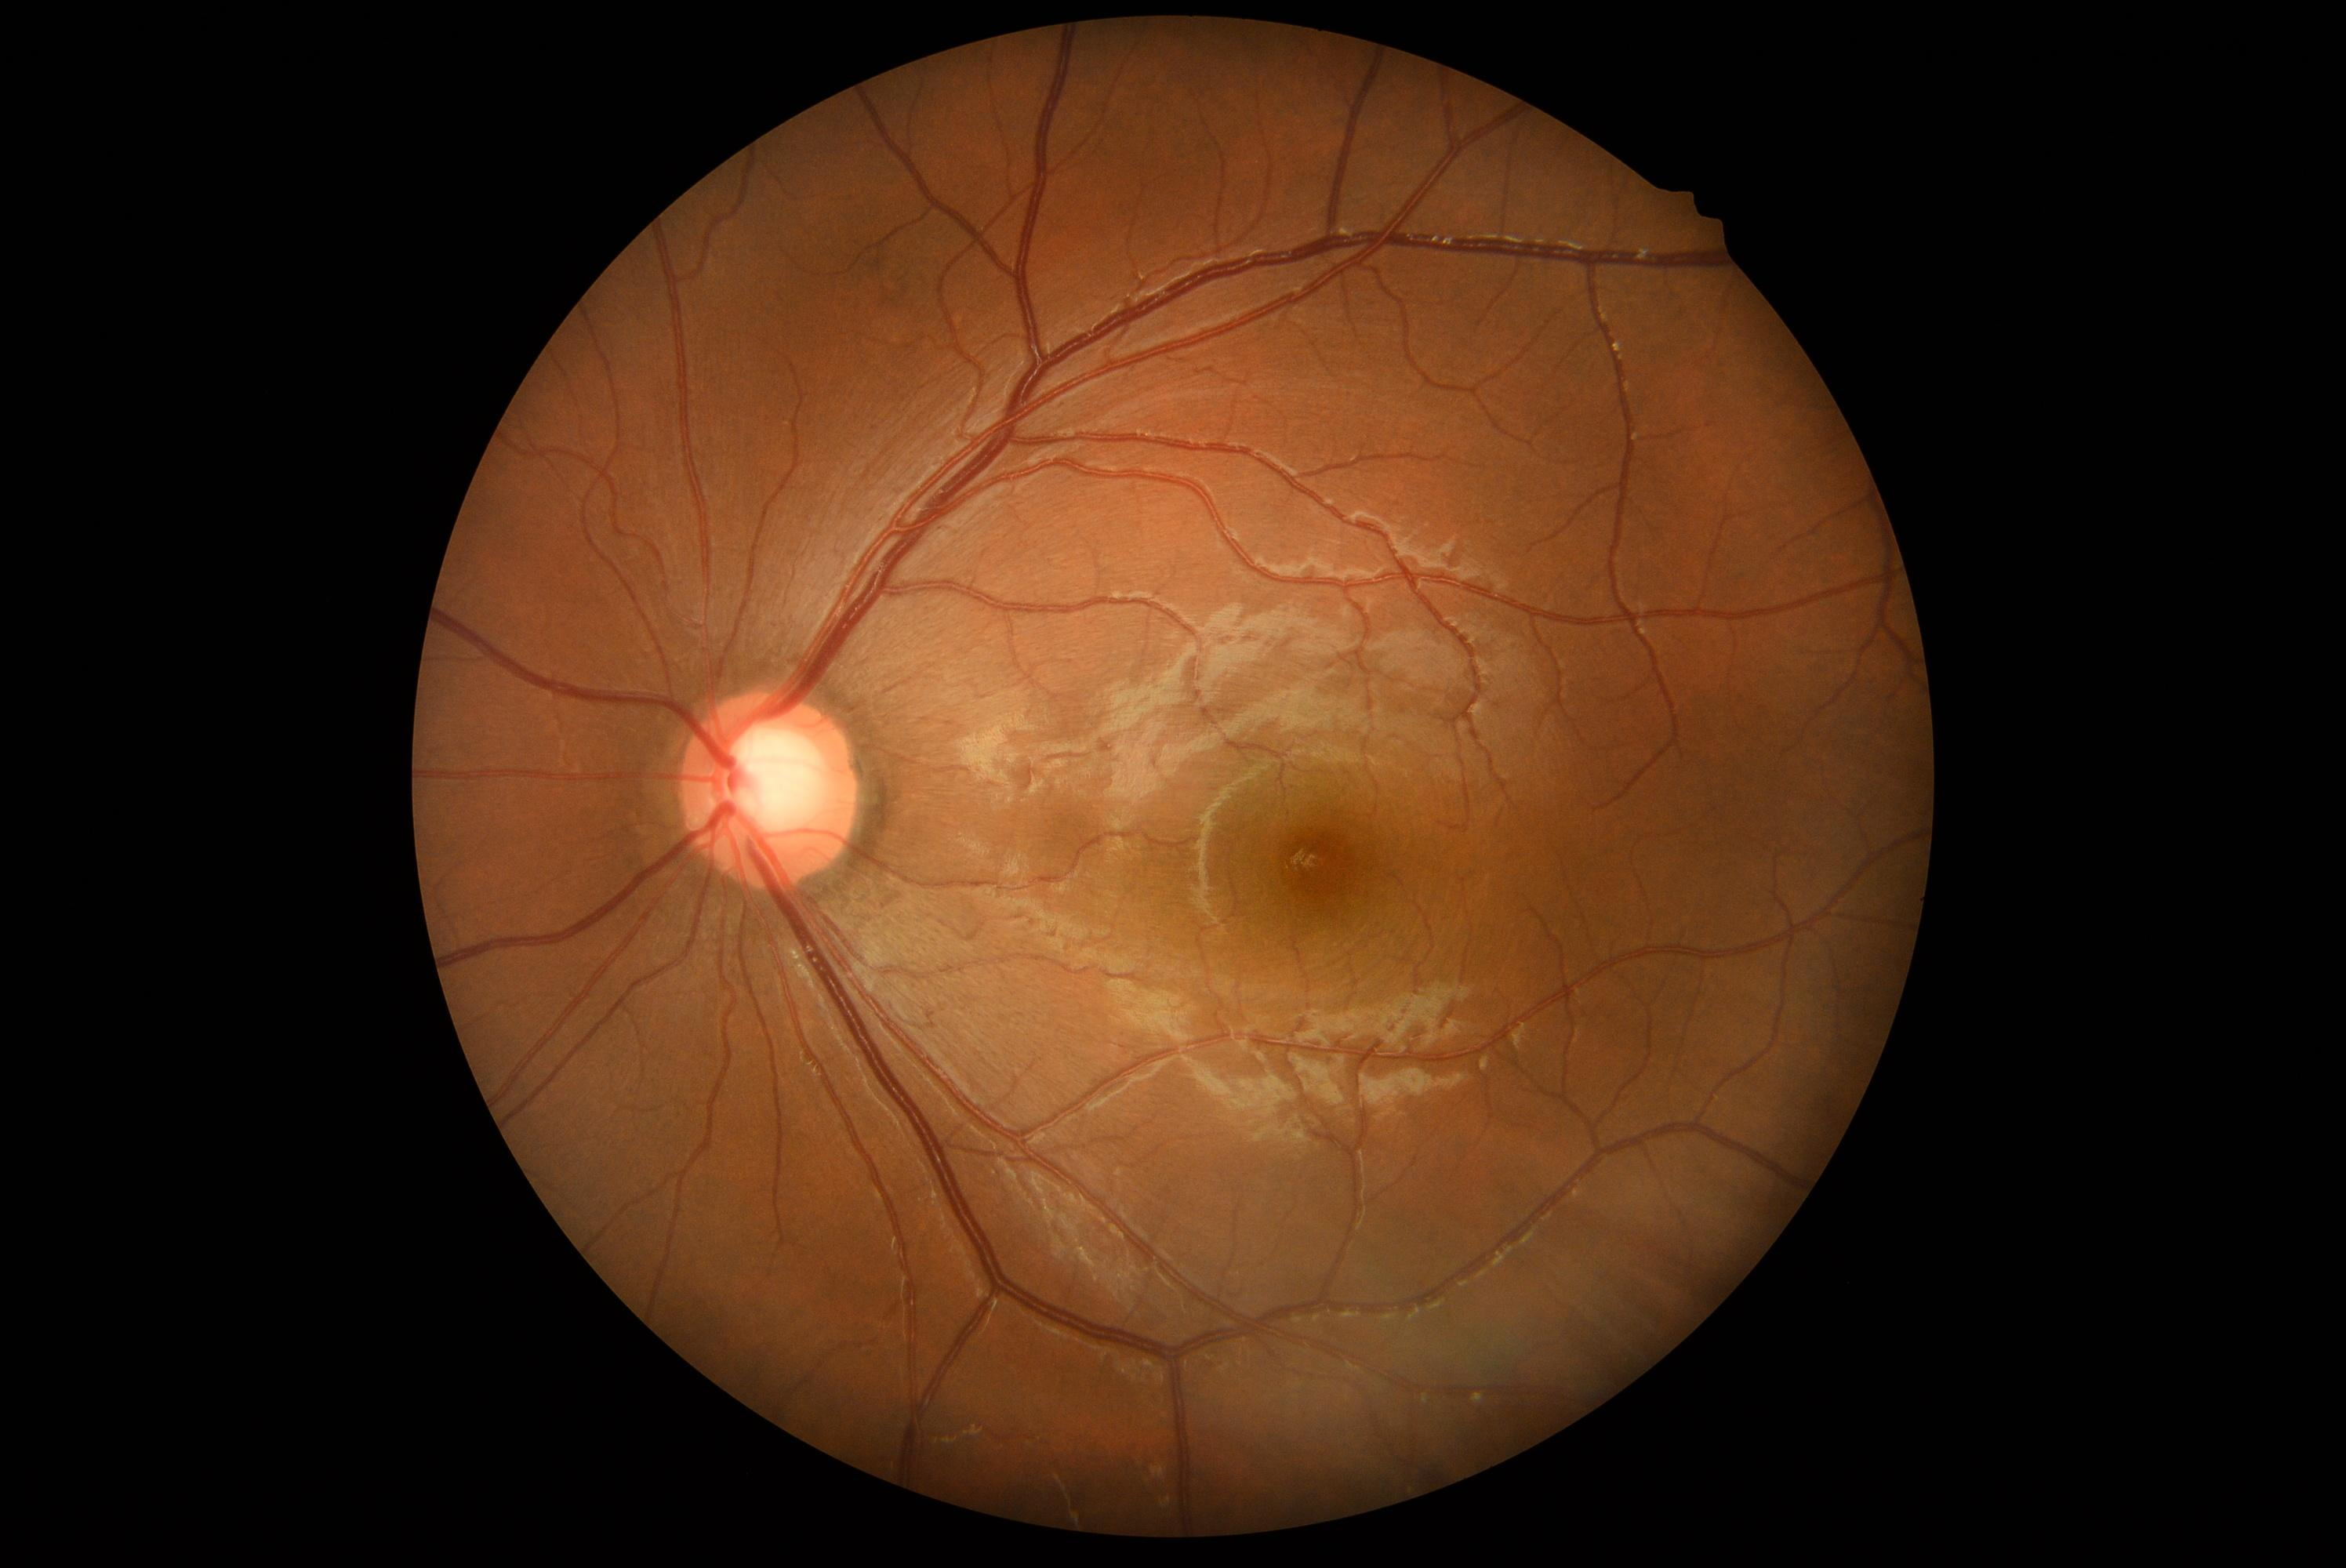Fovea: (1232, 781, 1382, 929)
